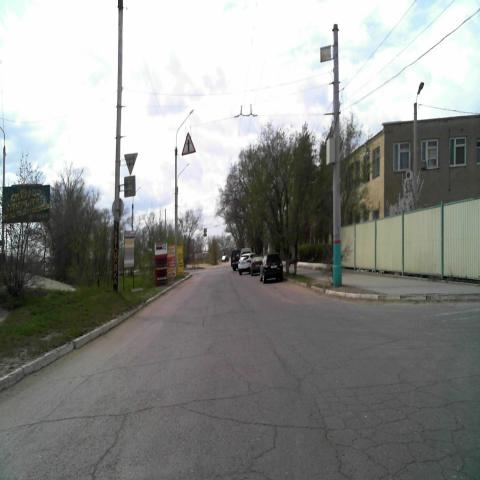2_3: (182, 133, 196, 155)
